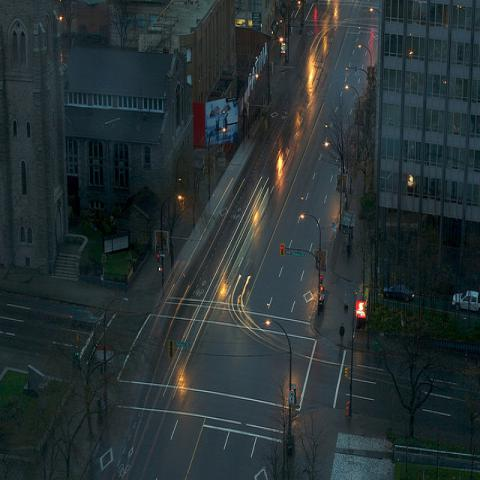car: (383, 284, 415, 302)
truck: (452, 290, 480, 316)
